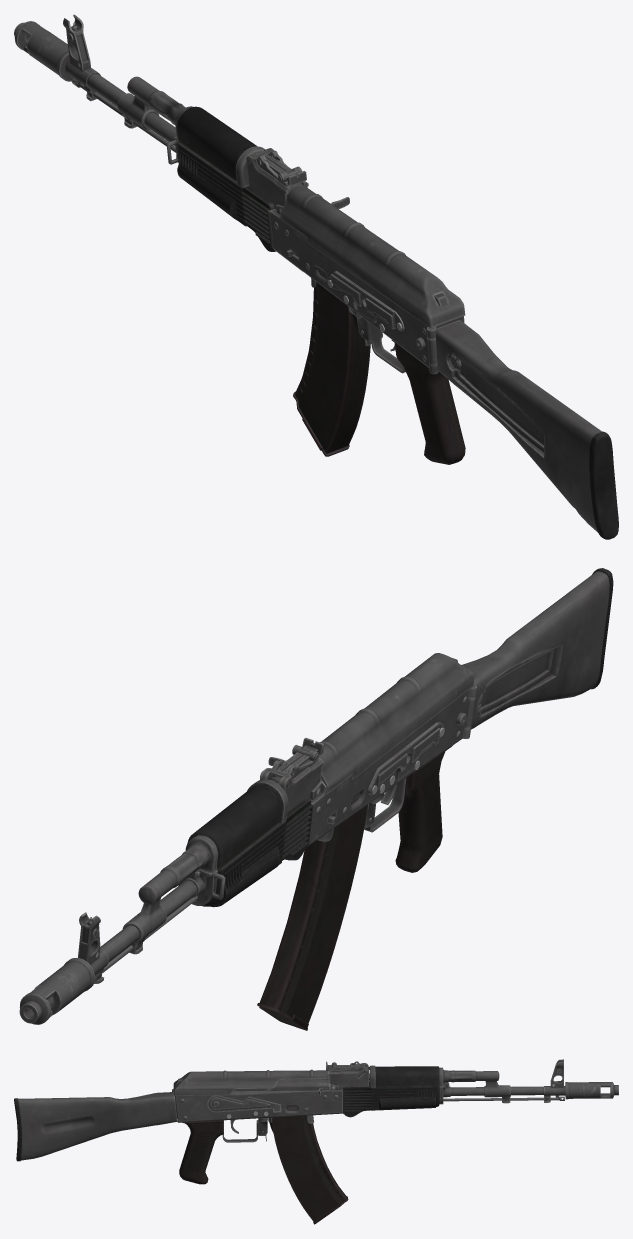
3 renders of one model, top to bottom at view 1: azimuth 30°, elevation 25°; view 2: azimuth 150°, elevation 25°; view 3: azimuth 270°, elevation 25°, orthographic. The views are drawn at different scales.
Visible parts, largest first — view 1: Object_97; view 2: Object_97; view 3: Object_97.
Boxes of the visible parts, bbox=[...] form: Object_97: bbox=[14, 14, 618, 539]; Object_97: bbox=[19, 568, 613, 1030]; Object_97: bbox=[14, 1059, 618, 1224].
Bounding box in the file's own units: 0.0701 × 0.2623 × 0.9431.
1 material, 1 textured.
